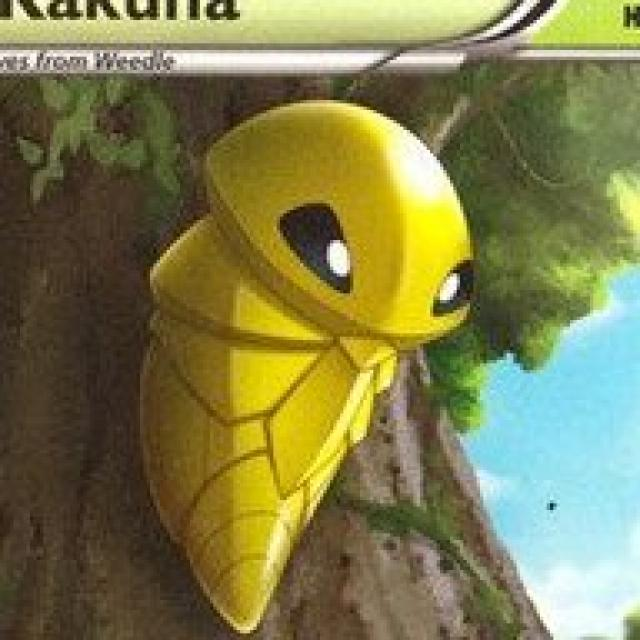Kakuna: (128, 92, 468, 632)
